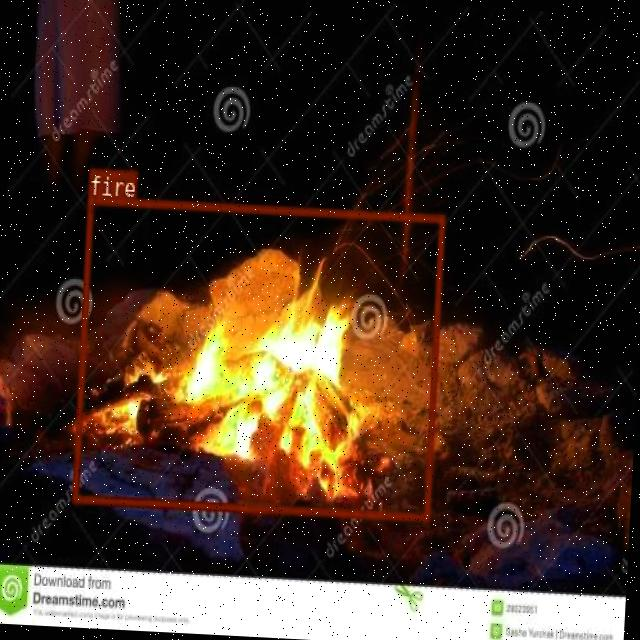fire: (71, 196, 444, 519)
